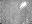person: (21, 2, 27, 8)
